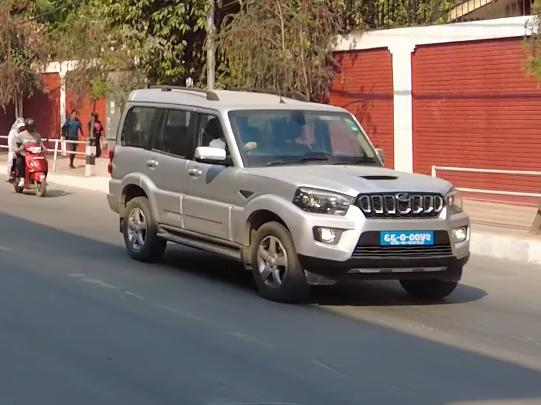SUV: (102, 81, 472, 305)
scooter: (10, 135, 54, 203)
